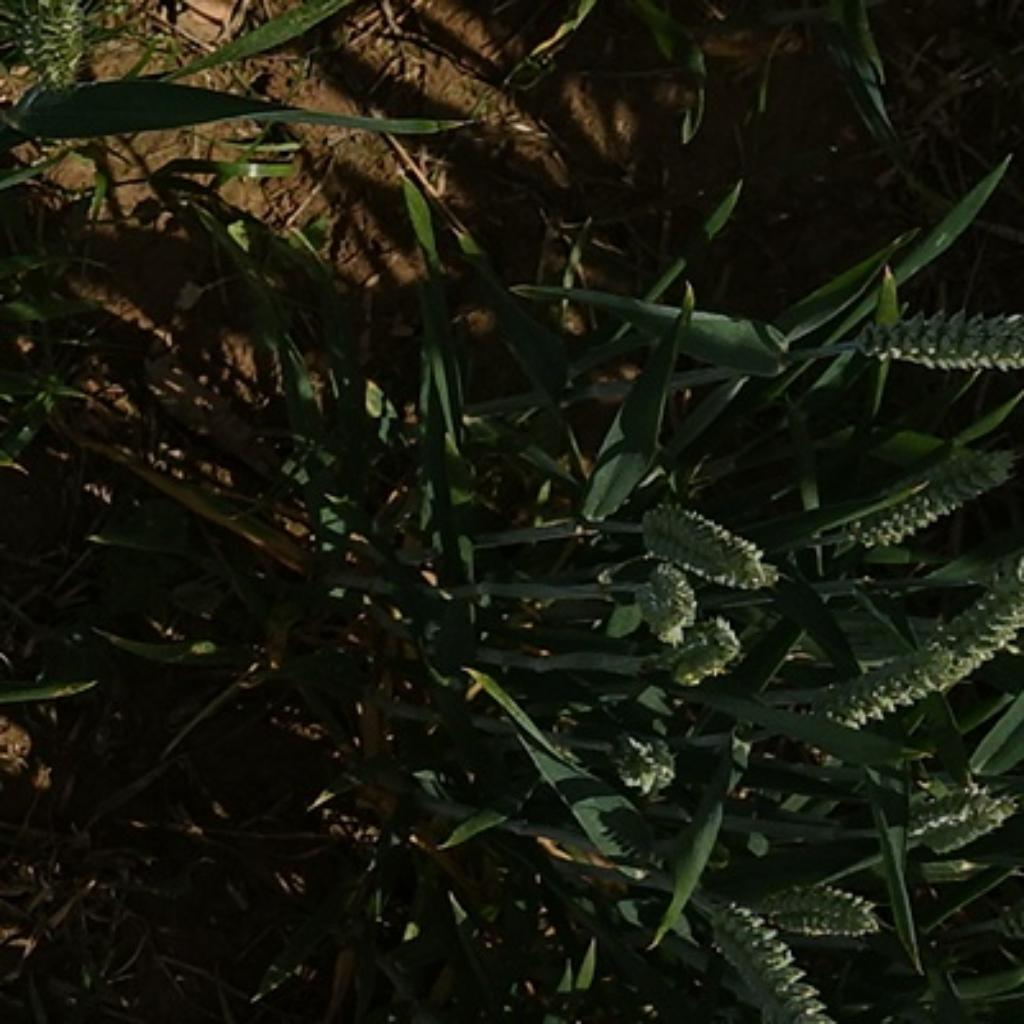0-0: (832, 430, 1024, 558), (693, 892, 835, 1024), (803, 642, 954, 734), (913, 576, 1024, 696), (852, 303, 1019, 372), (652, 506, 784, 590), (898, 768, 1024, 849), (765, 870, 888, 939), (0, 2, 97, 74), (666, 614, 747, 688), (635, 566, 707, 648), (608, 727, 680, 798)
